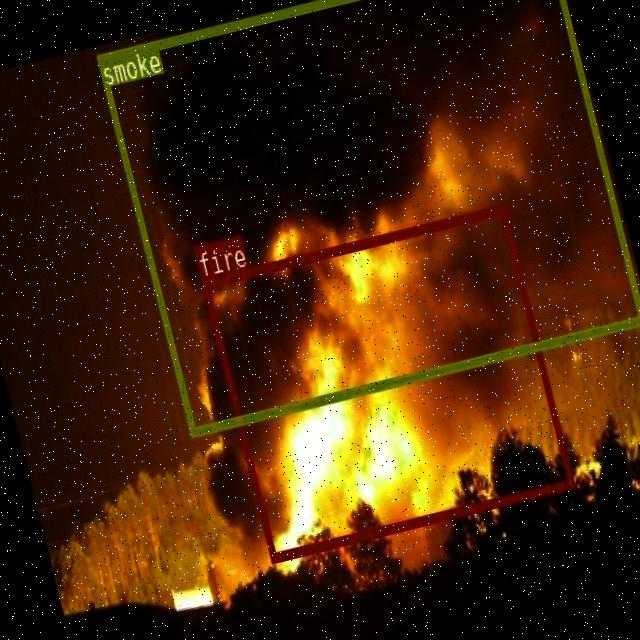fire: (201, 202, 574, 561)
smoke: (94, 0, 640, 435)
